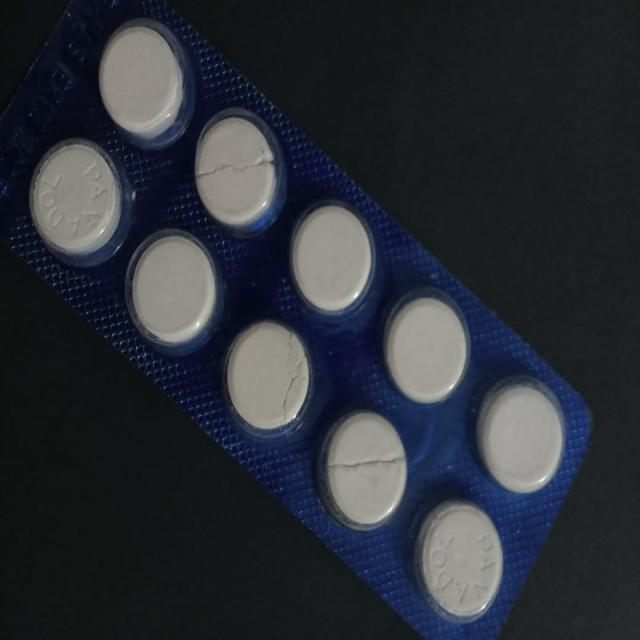defect: (319, 406, 410, 534), (194, 113, 288, 234), (223, 317, 313, 437)
